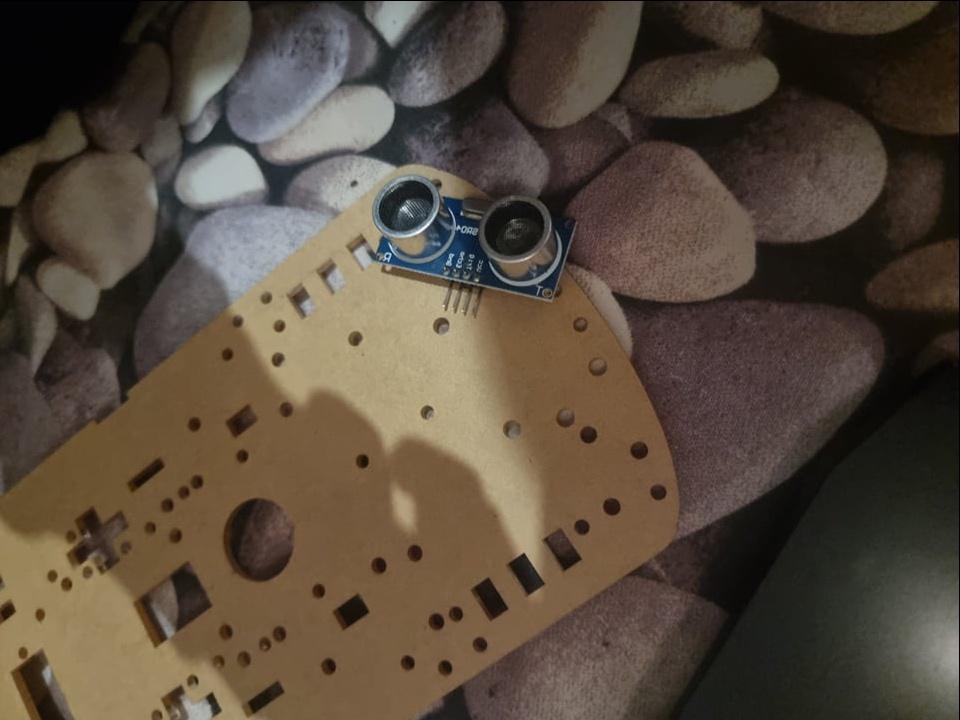SENSOR: (372, 172, 581, 300)
